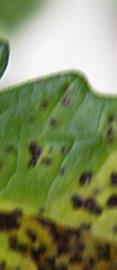Tomato Septoria leaf spot: (0, 27, 117, 270)
